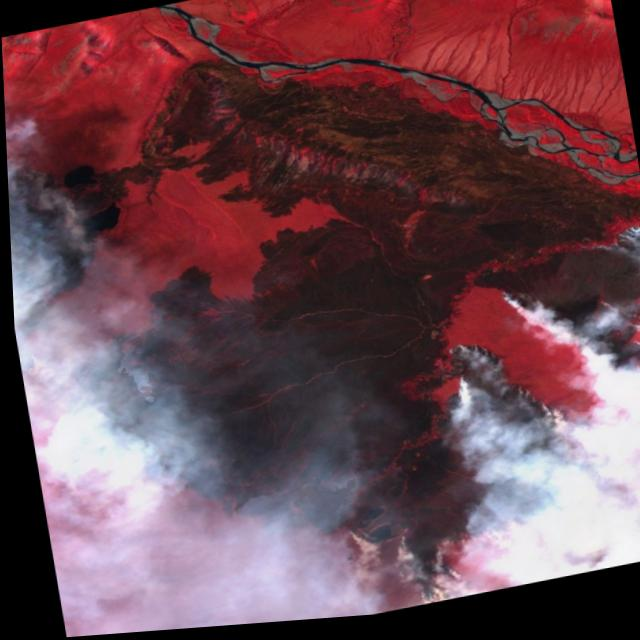fire: (286, 224, 640, 624), (5, 143, 110, 386)
